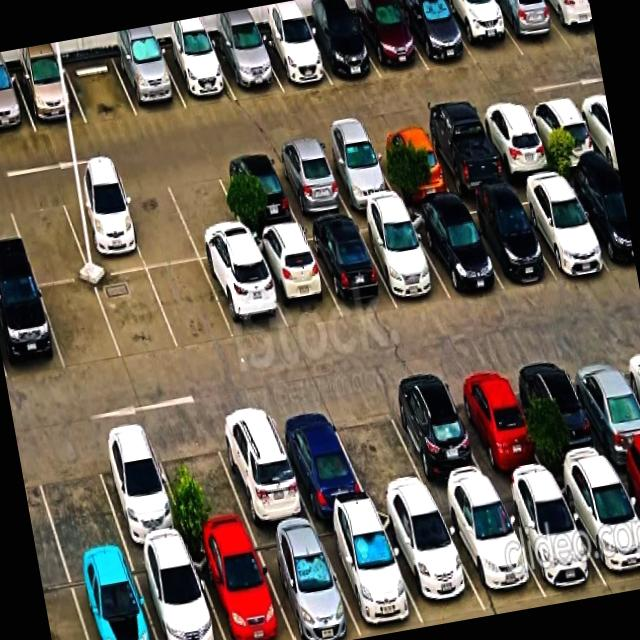empty: (149, 420, 252, 542), (326, 389, 432, 506), (29, 437, 126, 564), (163, 162, 251, 259), (114, 174, 199, 268), (6, 190, 90, 285), (147, 261, 234, 350), (94, 269, 179, 360), (39, 279, 121, 370), (63, 54, 137, 123)
occupied: (314, 511, 424, 638), (382, 376, 493, 500), (495, 479, 607, 598), (436, 490, 546, 610), (376, 503, 486, 622), (209, 404, 312, 530), (444, 365, 550, 487), (250, 524, 361, 640), (89, 427, 188, 551), (268, 399, 370, 519), (512, 354, 612, 475), (189, 534, 293, 640), (554, 465, 640, 593), (511, 177, 611, 277), (456, 192, 554, 289), (406, 203, 504, 300), (251, 228, 342, 331), (562, 347, 640, 464), (129, 544, 224, 640), (303, 219, 396, 317), (354, 211, 450, 305), (58, 182, 146, 277), (66, 554, 156, 640), (563, 169, 636, 272), (202, 252, 288, 339), (419, 116, 507, 195), (215, 153, 299, 234), (268, 144, 351, 223), (316, 136, 399, 212), (368, 126, 453, 200), (0, 283, 64, 381), (475, 105, 556, 180), (523, 96, 603, 169), (351, 4, 428, 79), (397, 0, 476, 70), (440, 0, 523, 66), (303, 15, 380, 85), (111, 47, 186, 116), (13, 62, 86, 132), (159, 42, 236, 108), (255, 27, 331, 91), (211, 35, 282, 99), (489, 0, 570, 55), (541, 0, 596, 46), (0, 71, 35, 138)
